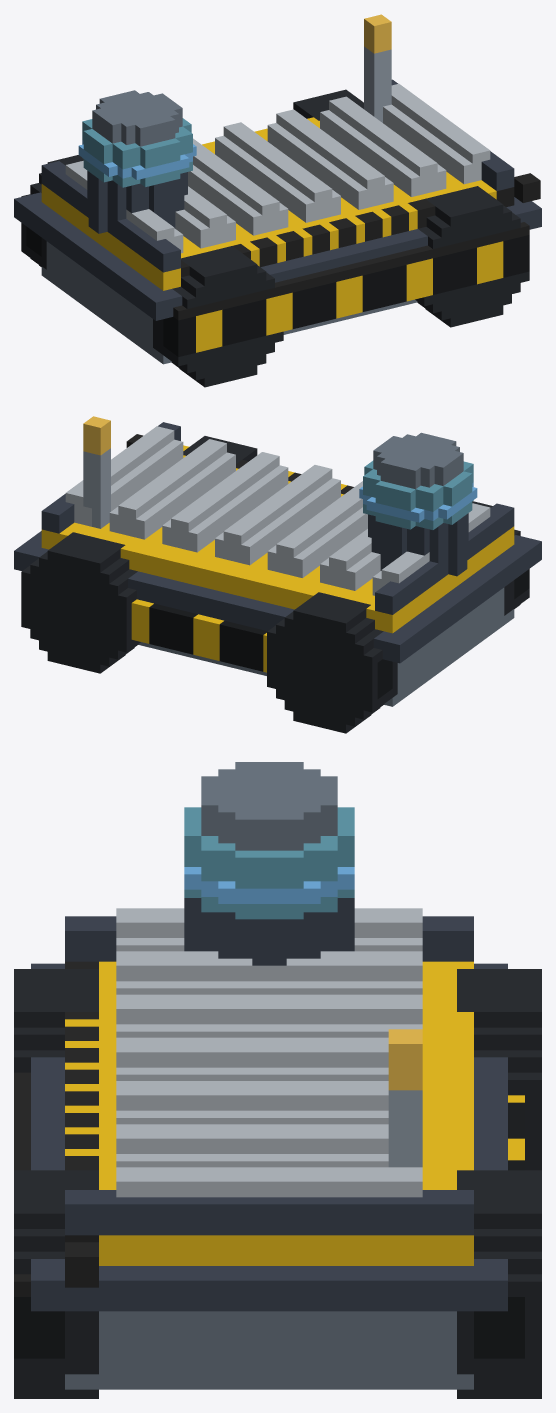
Rendered from agv.obj.
3 renders of one model, top to bottom at view 1: azimuth 30°, elevation 25°; view 2: azimuth 150°, elevation 25°; view 3: azimuth 270°, elevation 25°, orthographic. The views are drawn at different scales.
Parts seen in each view (by area): view 1: agv; view 2: agv; view 3: agv.
Boxes of the visible parts, x1=… form: agv: x1=14, y1=14, x2=541, y2=387; agv: x1=14, y1=416, x2=541, y2=733; agv: x1=14, y1=762, x2=541, y2=1398.
Size of the model in its own units: 1.41 by 0.75 by 0.9688.
